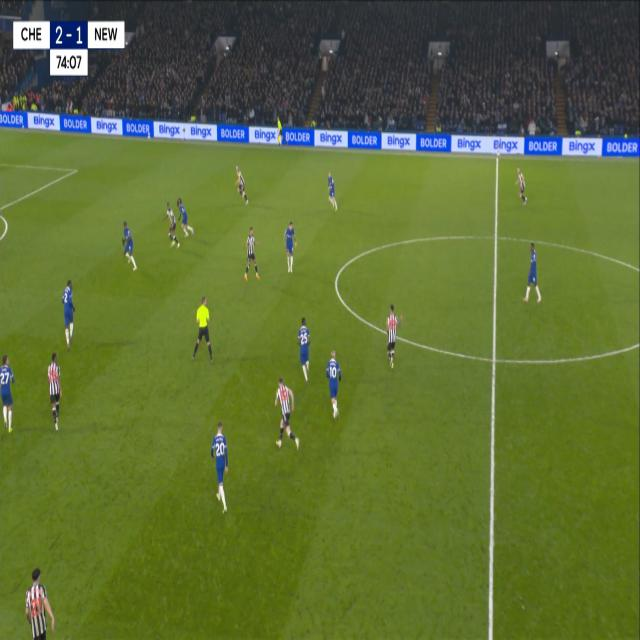Chelsea: (323, 345, 344, 422), (521, 236, 543, 306), (59, 274, 78, 352), (0, 350, 17, 434), (118, 216, 138, 274), (296, 316, 311, 387), (176, 197, 196, 243), (282, 219, 298, 275), (325, 166, 338, 212)
New castle: (18, 560, 58, 640), (272, 372, 302, 456), (208, 416, 232, 518), (383, 300, 404, 374), (45, 348, 62, 428), (243, 225, 262, 284), (162, 203, 181, 253), (233, 162, 250, 209), (513, 163, 529, 208)
Refree: (190, 291, 216, 367)
